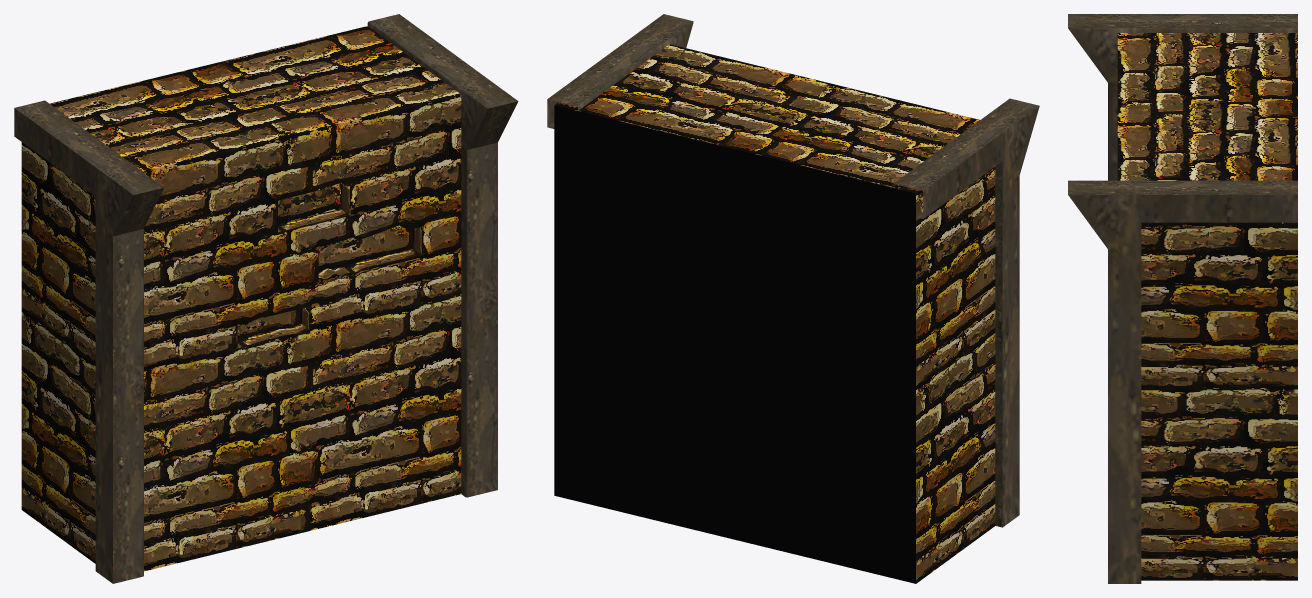
File: stoneWallC.fbx
The picture shows the model from 3 angles, left to right: view 1: azimuth 30°, elevation 25°; view 2: azimuth 150°, elevation 25°; view 3: azimuth 270°, elevation 25°; orthographic projection. The views are drawn at different scales.
Visible parts, largest first — view 1: stoneWallC; view 2: stoneWallC; view 3: stoneWallC.
Part boxes in pixels (bbox=[...]): stoneWallC: bbox=[14, 14, 518, 583]; stoneWallC: bbox=[547, 14, 1039, 583]; stoneWallC: bbox=[1068, 14, 1297, 583].
Bounding box in the file's own units: 300 × 301 × 161.
